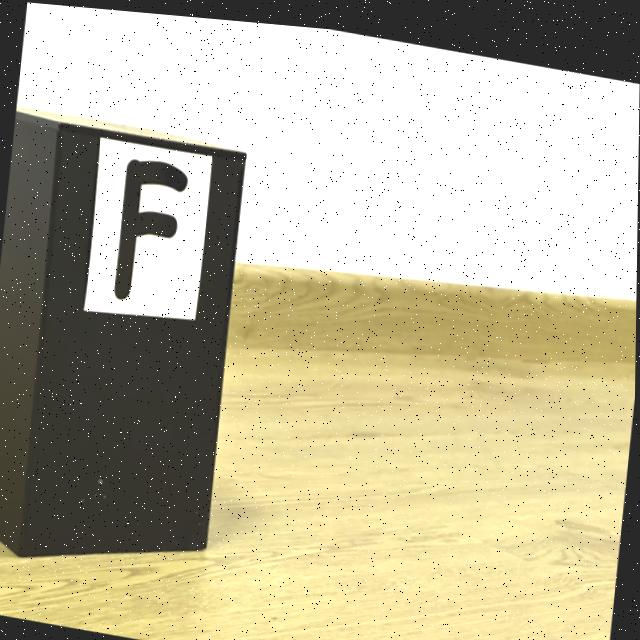F: (114, 156, 188, 297)
